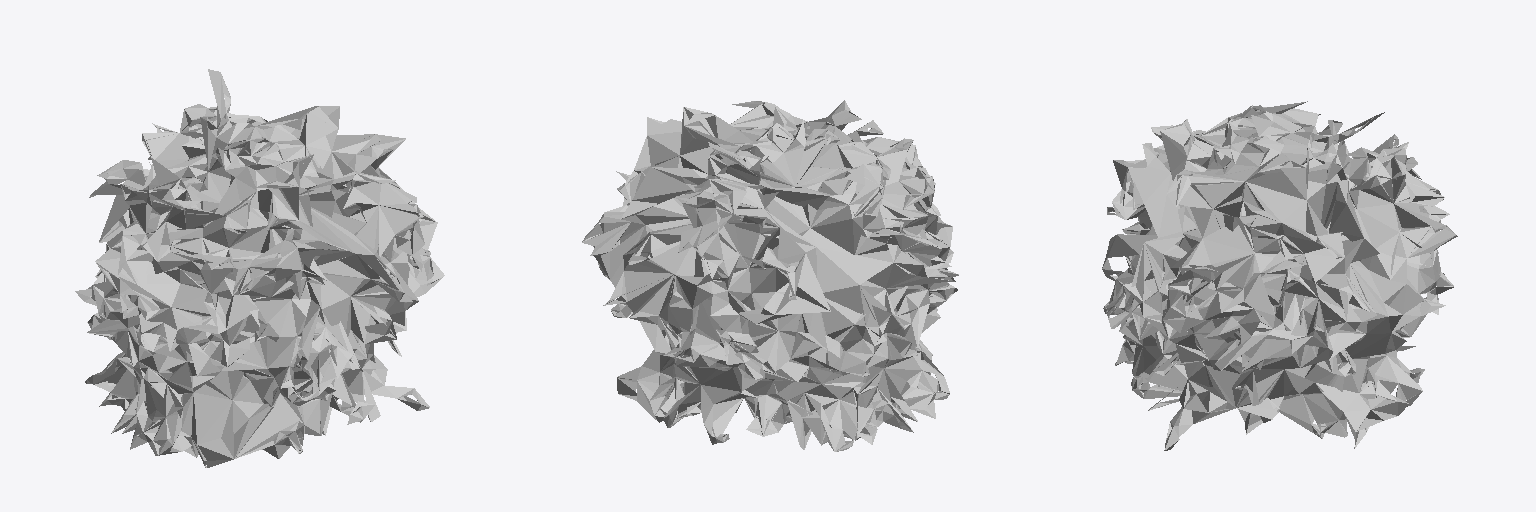
File: fur.obj
3 views of the same model, side by side, from view 1: azimuth 30°, elevation 25°; view 2: azimuth 150°, elevation 25°; view 3: azimuth 270°, elevation 25° (orthographic).
Visible parts, largest first — view 1: mesh; view 2: mesh; view 3: mesh.
Part boxes in pixels (x1,y1,x2,y2): mesh: (75, 69, 444, 467); mesh: (582, 100, 958, 451); mesh: (1102, 101, 1457, 450).
Bounding box in the file's own units: 0.9622 × 0.8444 × 0.9282.